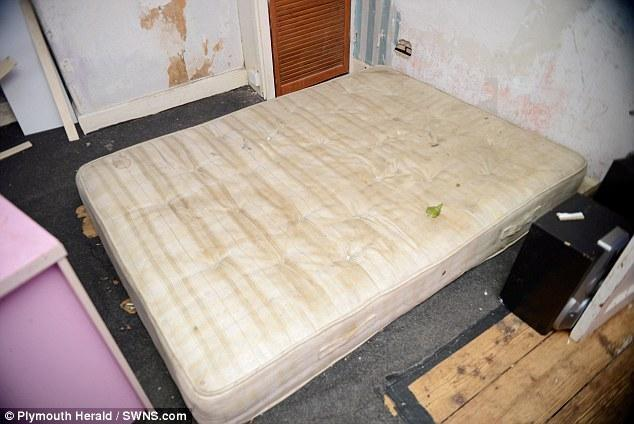Bed-Mattress: (65, 61, 598, 424)
